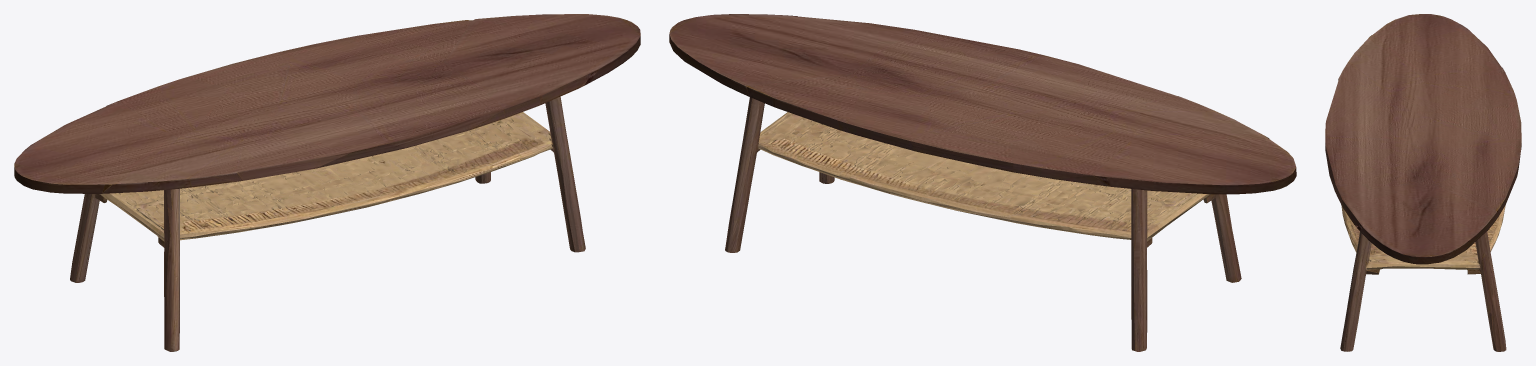
3 renders of one model, left to right at view 1: azimuth 30°, elevation 25°; view 2: azimuth 150°, elevation 25°; view 3: azimuth 270°, elevation 25°, orthographic. The views are drawn at different scales.
Parts seen in each view (by area): view 1: Mesh_0; view 2: Mesh_0; view 3: Mesh_0.
Part boxes in pixels (x1=…): Mesh_0: x1=14, y1=14, x2=640, y2=351; Mesh_0: x1=669, y1=14, x2=1296, y2=351; Mesh_0: x1=1325, y1=14, x2=1521, y2=351.
Size of the model in its own units: 1.56 by 0.4 by 0.5312.
1 material, 1 textured.
